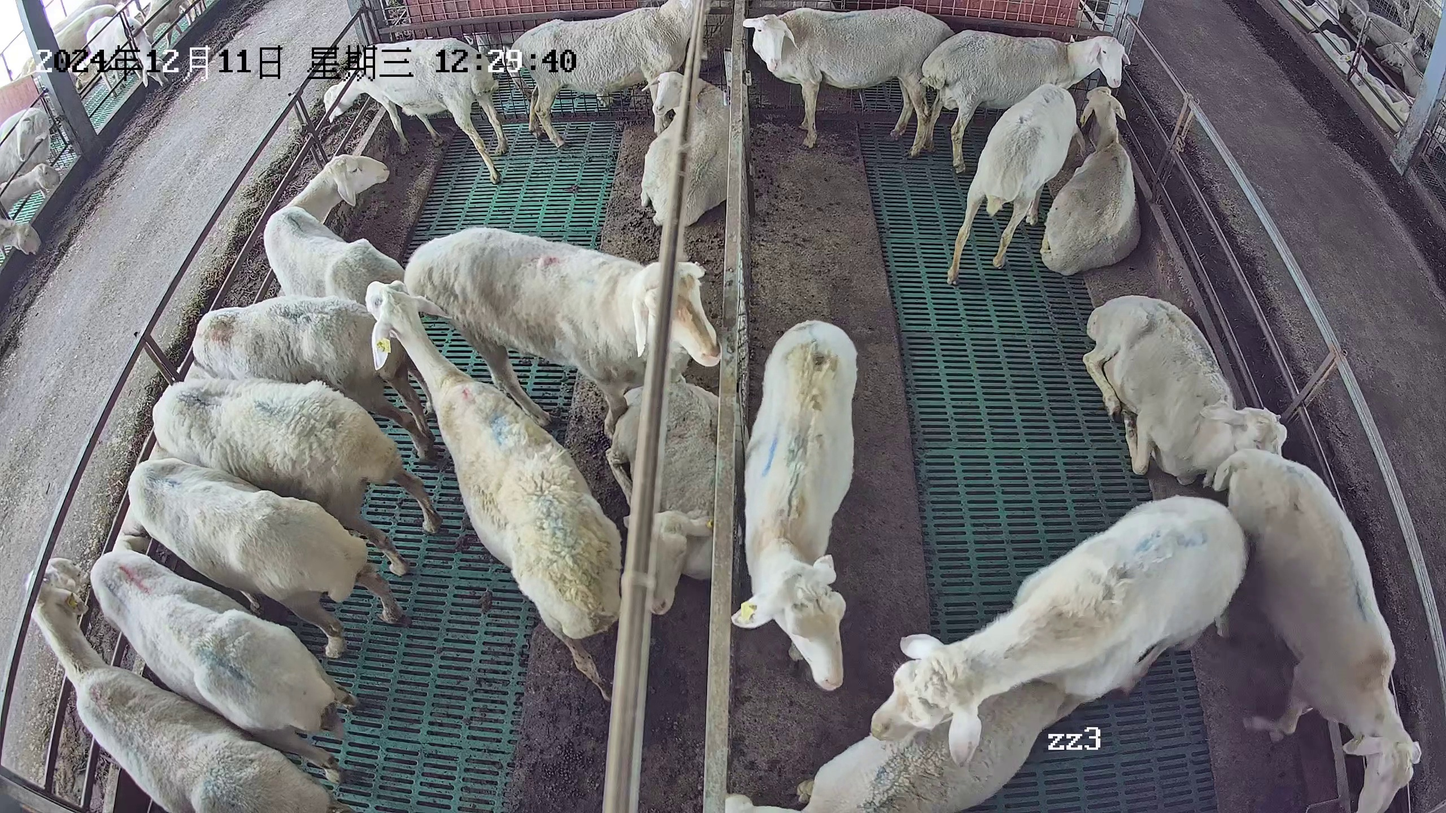Smounting: (799, 495, 1248, 813)
mounted: (802, 668, 1067, 813)
